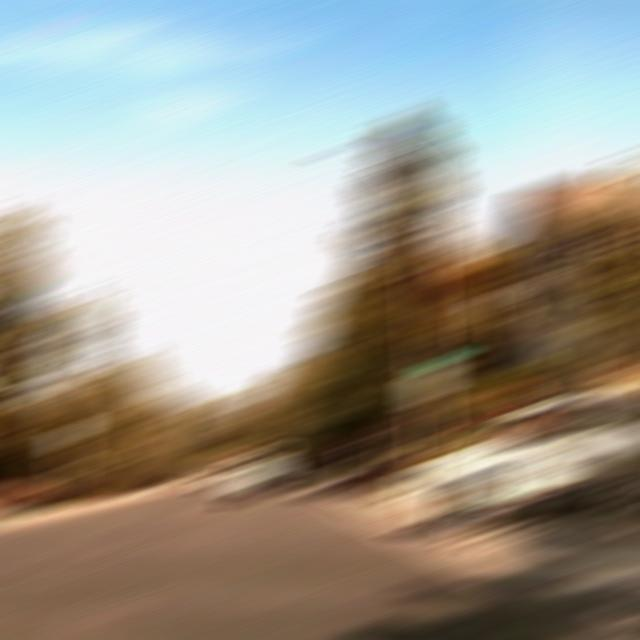speedLimit25: (408, 370, 448, 398)
